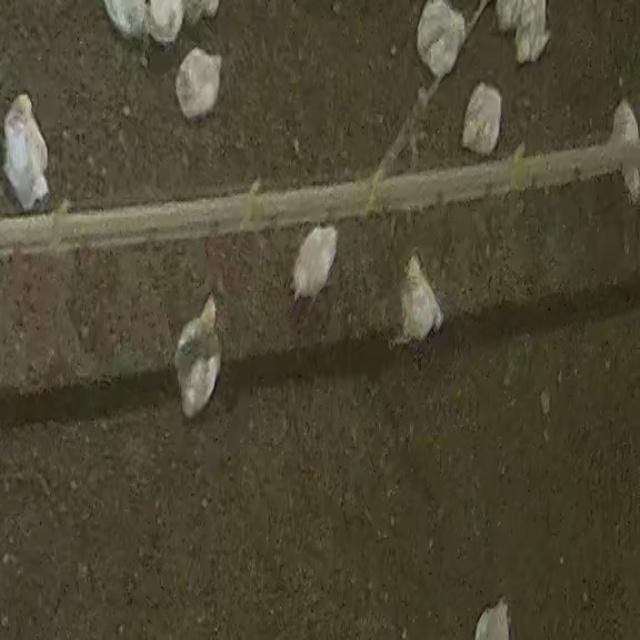chicken: (5, 88, 51, 206), (179, 294, 219, 418), (399, 254, 443, 347), (412, 1, 467, 74), (175, 50, 227, 122), (602, 102, 640, 199), (294, 223, 340, 299), (466, 81, 508, 151)
